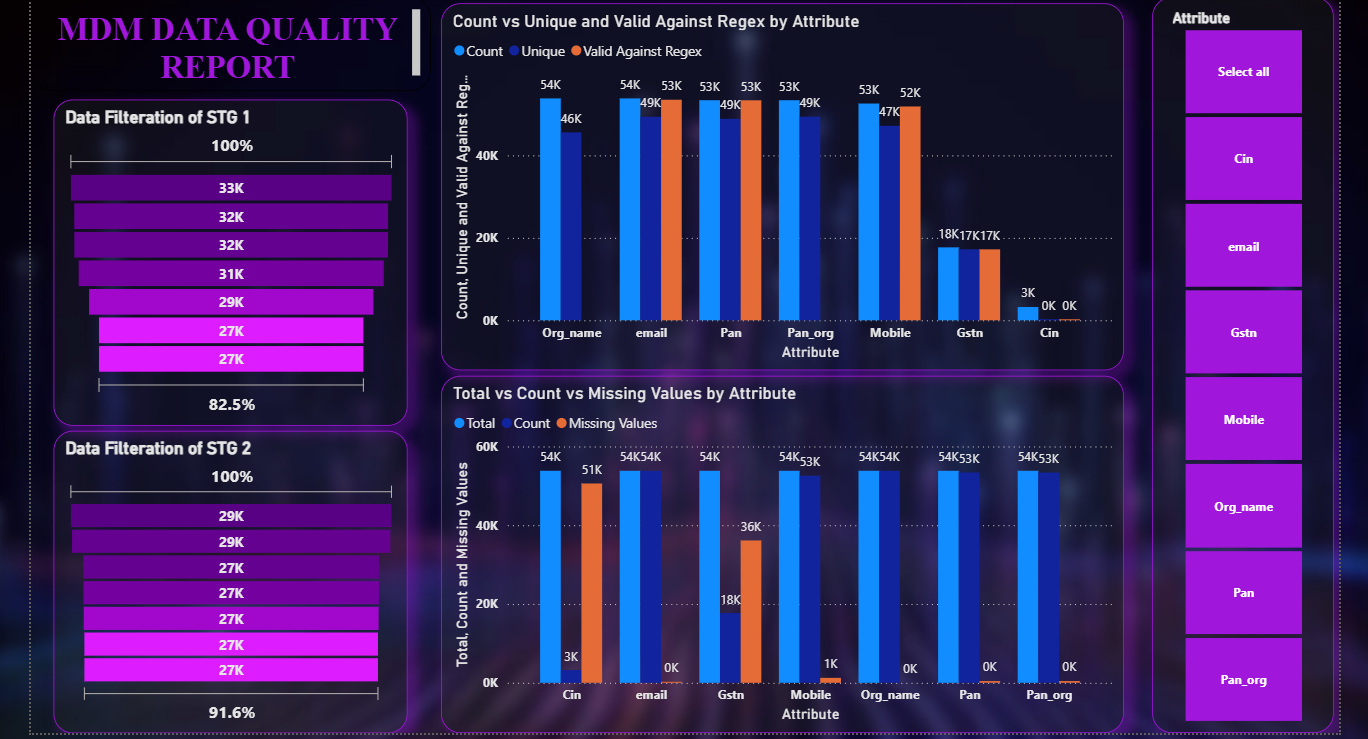

What the dashboard file says about the page in this screenshot:
{"tool":"powerbi","page":{"name":"Page 1","canvas":[1280,720],"ordinal":0},"visuals":[{"type":"clusteredColumnChart","title":"Count vs Unique and Valid Against Regex by Attribute","fields":{"Category":["sabeel2912 table_2.Attribute"],"Y":["Sum(sabeel2912 table_2.count)","Sum(sabeel2912 table_2.Unique_)","Sum(sabeel2912 table_2.Valid_Against_Regex)"]},"box":[401.1,6.1,667.7,359.5],"z":0},{"type":"slicer","fields":{"Values":["sabeel2912 table_2.Attribute"]},"box":[1096.9,0,177.3,720],"z":1000},{"type":"clusteredColumnChart","title":"Total vs Count vs Missing Values by Attribute","fields":{"Category":["sabeel2912 table_2.Attribute"],"Y":["Sum(sabeel2912 table_2.Total)","Sum(sabeel2912 table_2.count)","Sum(sabeel2912 table_2.Missing_Values)"]},"box":[401.1,370.5,667.7,349.7],"z":2000},{"type":"textbox","box":[0,0,391.3,91.7],"z":3000},{"type":"funnel","title":"Data Filteration of STG 1","fields":{"Category":["sabeel2912 mdm_table_1.Head"],"Y":["Sum(sabeel2912 mdm_table_1.stg_1)"]},"box":[22,100.3,346.1,319.2],"z":4000},{"type":"funnel","title":"Data Filteration of STG 2","fields":{"Category":["sabeel2912 mdm_table_1.Head"],"Y":["Sum(sabeel2912 mdm_table_1.stg_2)"]},"box":[22,424.3,346.1,295.9],"z":5000}]}

Visuals, with their boxes on the page's 1280x720 design canvas (x1, y1, x2, y2). These are canvas units, not pixel positions in the 1368x739 screenshot, which may show the page scaled, cropped or inside an application window:
"Count vs Unique and Valid Against Regex by Attribute" clusteredColumnChart: locate(401, 6, 1069, 366)
slicer - sabeel2912 table_2.Attribute: locate(1097, 0, 1274, 720)
"Total vs Count vs Missing Values by Attribute" clusteredColumnChart: locate(401, 370, 1069, 720)
textbox: locate(0, 0, 391, 92)
"Data Filteration of STG 1" funnel: locate(22, 100, 368, 420)
"Data Filteration of STG 2" funnel: locate(22, 424, 368, 720)
